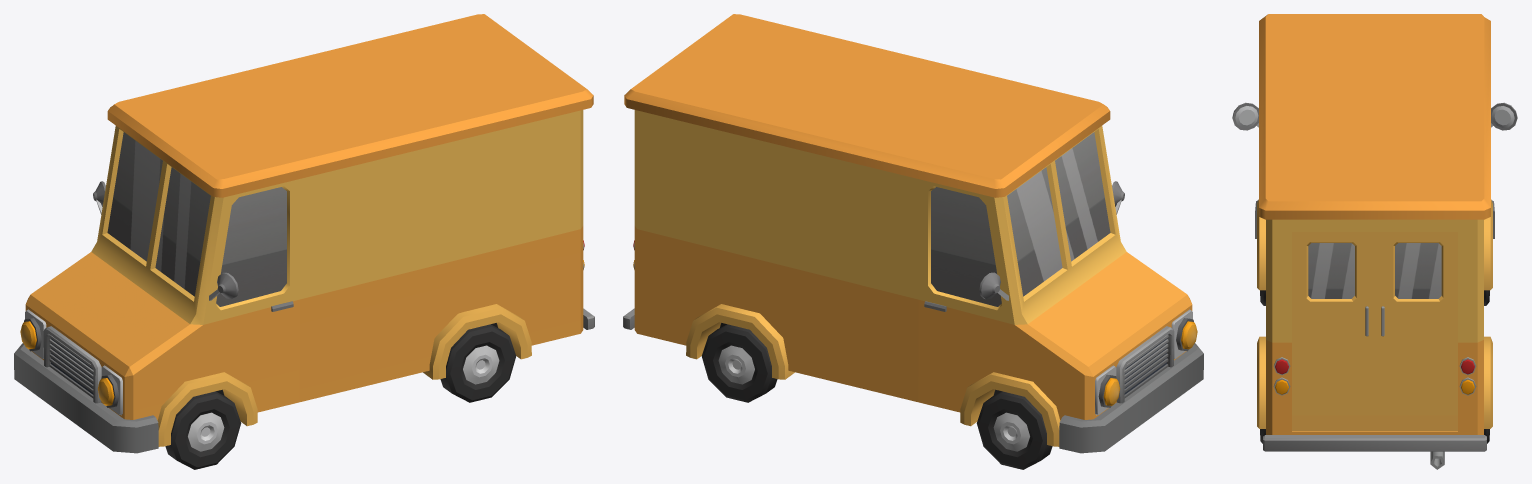
Rendered from Car_16_G.gltf.
3 renders of one model, left to right at view 1: azimuth 30°, elevation 25°; view 2: azimuth 150°, elevation 25°; view 3: azimuth 270°, elevation 25°, orthographic. The views are drawn at different scales.
Visible parts, largest first — view 1: Car_16_G, RL, FL; view 2: Car_16_G, RR, FR; view 3: Car_16_G.
Boxes of the visible parts, <box> form: Car_16_G: <box>14,14,594,453</box>; RL: <box>440,324,516,402</box>; FL: <box>165,391,241,469</box>; Car_16_G: <box>623,14,1203,453</box>; RR: <box>701,324,777,402</box>; FR: <box>976,391,1052,469</box>; Car_16_G: <box>1232,14,1517,469</box>.
Bounding box in the file's own units: 3.66 × 2.04 × 1.8.
Materials: 4 (4 with a texture image).
